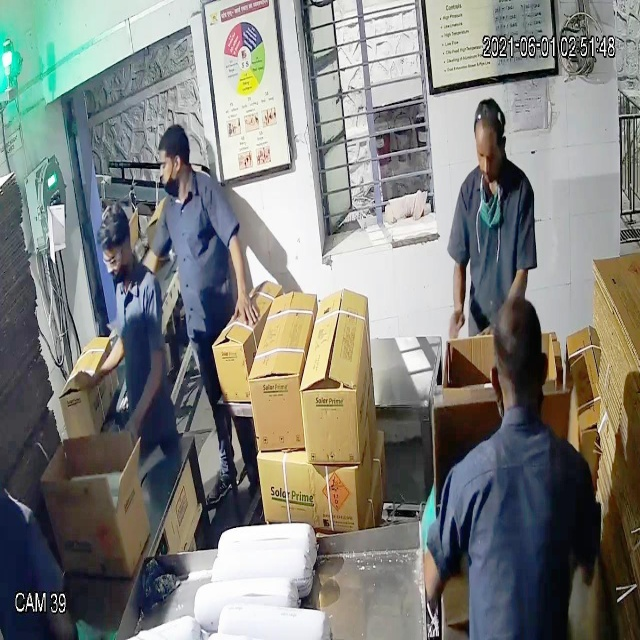Gafas: (97, 243, 131, 276)
Sin_gafas: (468, 134, 509, 172)
